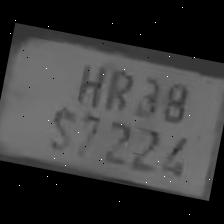2: (125, 119, 164, 173), (98, 113, 134, 166)
3: (130, 68, 166, 119)
4: (154, 124, 193, 178)
7: (71, 105, 105, 158)
8: (155, 76, 194, 125)
H: (71, 56, 110, 110)
R: (99, 62, 138, 114)
S: (40, 98, 82, 155)
